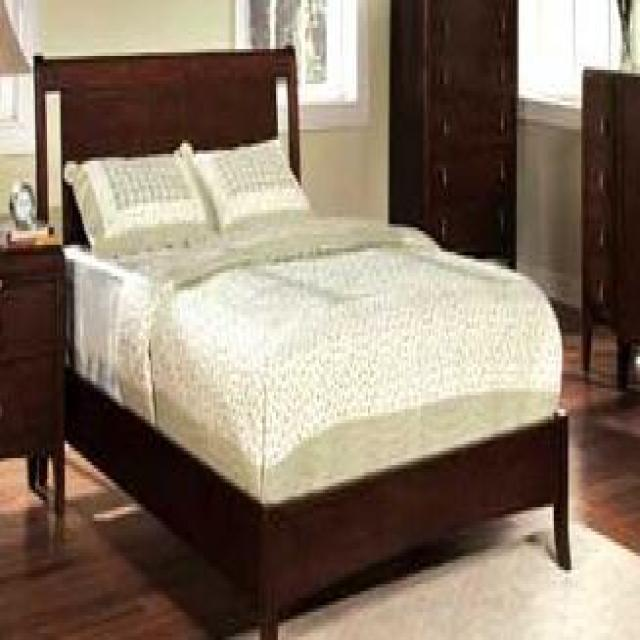bed: (31, 42, 572, 636)
